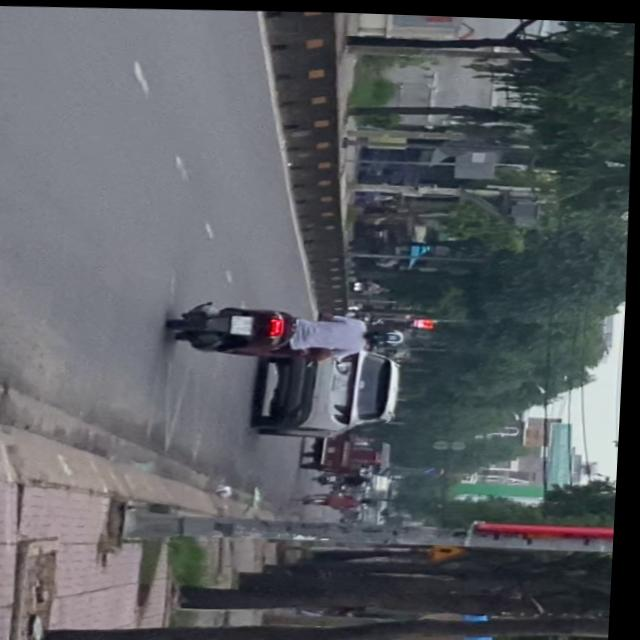helmet: (370, 323, 408, 343)
licenseplate: (169, 294, 410, 366)
nohelmet: (234, 313, 257, 332)
